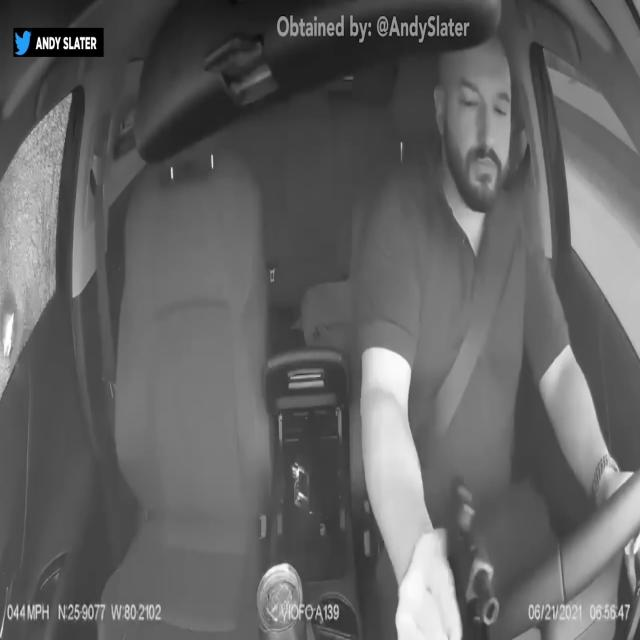senjata_api: (444, 474, 499, 640)
